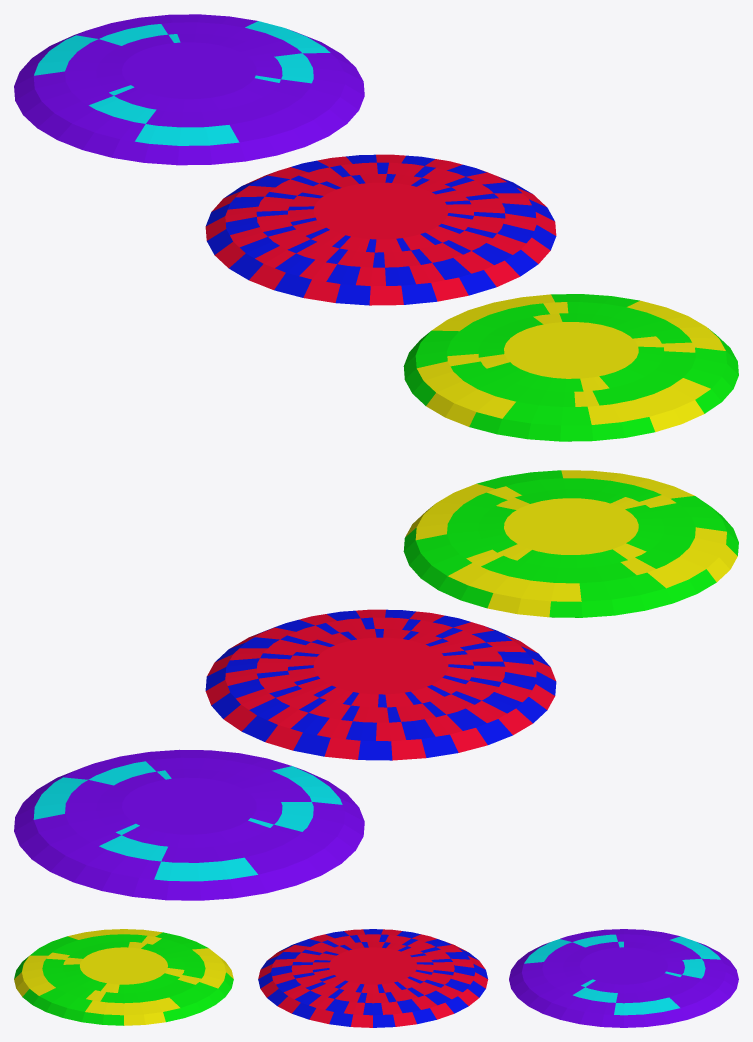
File: Discs.fbx
3 views of the same model, one above another, from view 1: azimuth 30°, elevation 25°; view 2: azimuth 150°, elevation 25°; view 3: azimuth 270°, elevation 25° (orthographic). The views are drawn at different scales.
Parts seen in each view (by area): view 1: Cylinder, Cylinder.002, Cylinder.001; view 2: Cylinder, Cylinder.002, Cylinder.001; view 3: Cylinder, Cylinder.002, Cylinder.001.
Boxes of the visible parts, left/top/right/bottom form: Cylinder: left=205, top=154, right=556, bottom=305; Cylinder.002: left=14, top=14, right=364, bottom=165; Cylinder.001: left=403, top=294, right=738, bottom=441; Cylinder: left=205, top=609, right=556, bottom=760; Cylinder.002: left=14, top=749, right=364, bottom=900; Cylinder.001: left=403, top=470, right=738, bottom=617; Cylinder: left=258, top=929, right=488, bottom=1027; Cylinder.002: left=509, top=929, right=738, bottom=1027; Cylinder.001: left=14, top=929, right=233, bottom=1025.
Size of the model in its own units: 728 by 62.9 by 2295.
